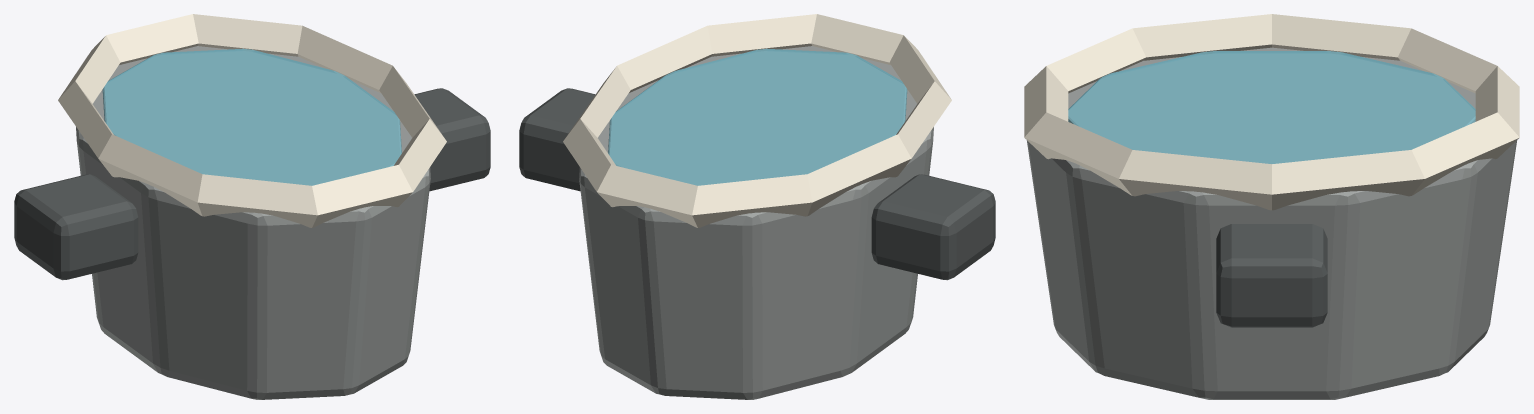
Rendered from pot.glb.
3 views of the same model, side by side, from view 1: azimuth 30°, elevation 25°; view 2: azimuth 150°, elevation 25°; view 3: azimuth 270°, elevation 25° (orthographic). The views are drawn at different scales.
Visible parts, largest first — view 1: potBody, water, potRim, handleL, handleR; view 2: potBody, water, potRim, handleL, handleR; view 3: potBody, potRim, water, handleR.
Boxes of the visible parts, <box> form: potBody: <box>76,46,430,399</box>; water: <box>102,48,401,185</box>; potRim: <box>58,14,446,227</box>; handleL: <box>14,174,138,280</box>; handleR: <box>414,88,490,191</box>; potBody: <box>579,46,933,399</box>; water: <box>608,48,907,185</box>; potRim: <box>563,14,951,227</box>; handleL: <box>871,174,995,280</box>; handleR: <box>519,88,595,191</box>; potBody: <box>1026,47,1517,399</box>; potRim: <box>1024,14,1519,210</box>; water: <box>1068,51,1475,163</box>; handleR: <box>1216,224,1327,327</box>.
Size of the model in its own units: 0.6 by 0.3 by 0.54.
